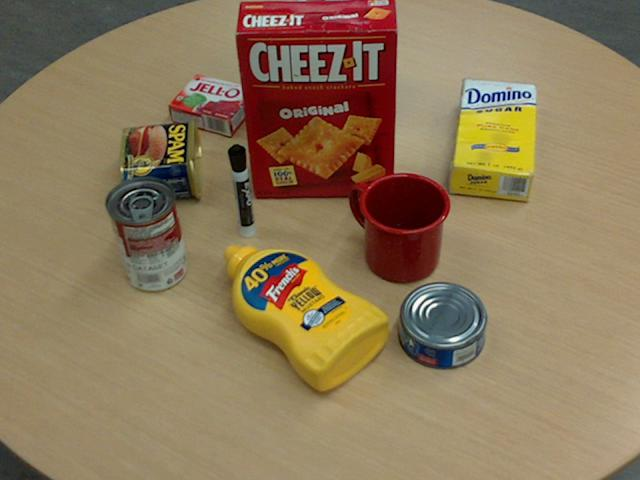cracker_box: (235, 0, 398, 195)
gelatin_box: (166, 72, 255, 135)
large_marker: (226, 144, 255, 239)
master_chef_can: (292, 0, 379, 125)
mug: (350, 171, 450, 282)
mustard_bottle: (222, 245, 388, 390)
potted_meat_can: (119, 117, 201, 201)
sugar_box: (450, 79, 536, 200)
tomato_soup_can: (103, 174, 185, 290)
tuna_fish_can: (398, 281, 487, 368)
